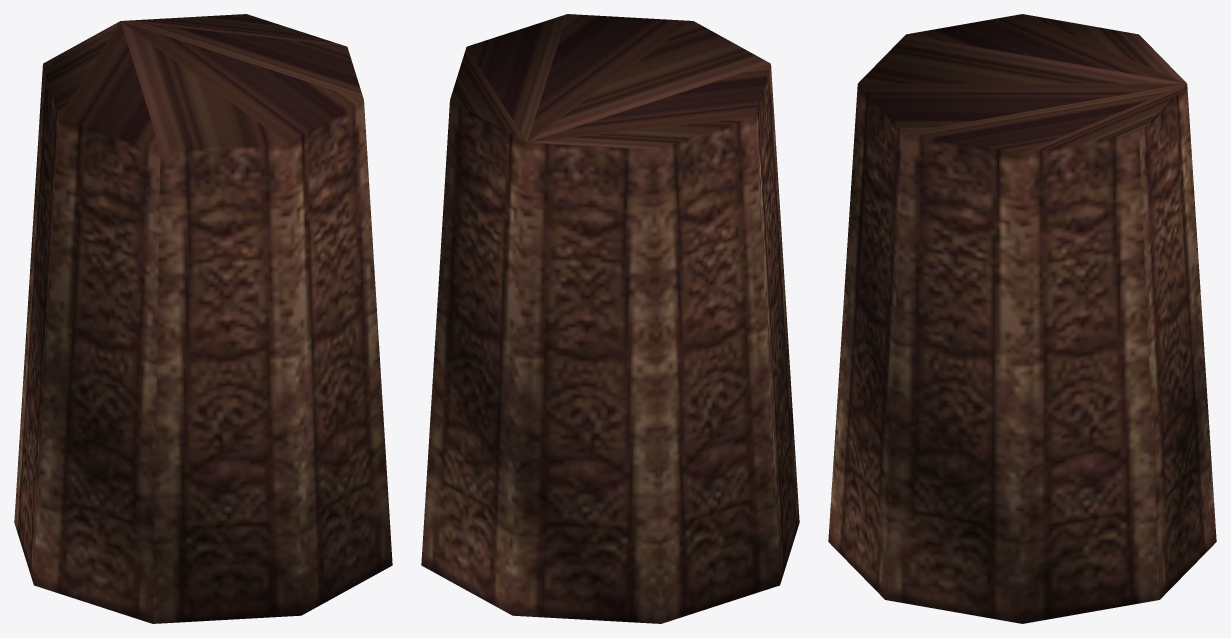
The model's file is general_obj_bigtower08.fbx.
3 views of the same model, side by side, from view 1: azimuth 30°, elevation 25°; view 2: azimuth 150°, elevation 25°; view 3: azimuth 270°, elevation 25° (orthographic).
Parts seen in each view (by area): view 1: Sphere01; view 2: Sphere01; view 3: Sphere01.
Boxes of the visible parts, x1,y1,x2,y2 form: Sphere01: (14, 14, 392, 623); Sphere01: (421, 14, 799, 623); Sphere01: (828, 14, 1216, 623).
Bounding box in the file's own units: 3.7 × 4.82 × 3.7.
